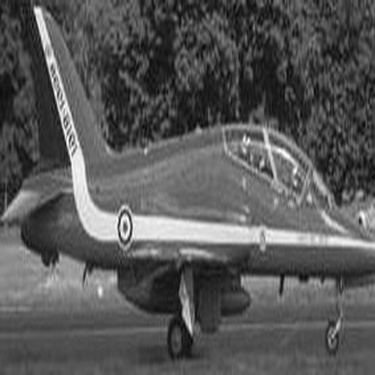airplane: (7, 3, 370, 362)
